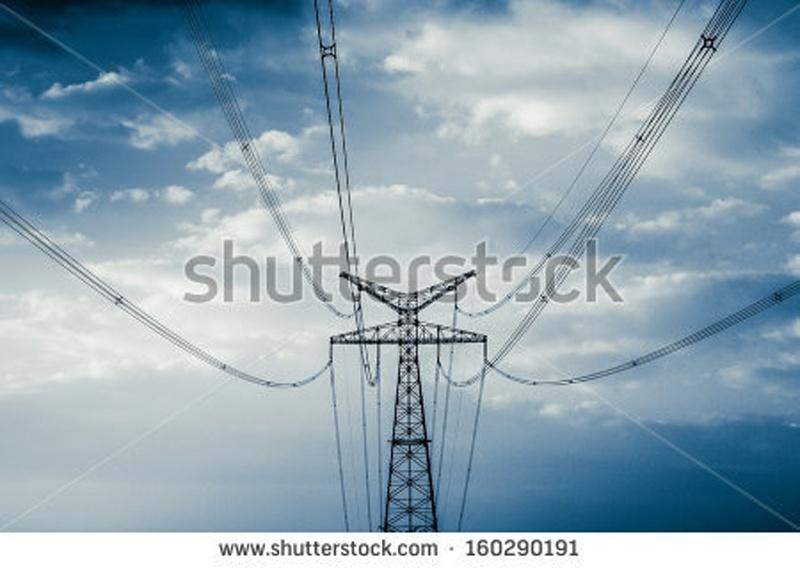power_tower: (324, 265, 504, 527)
